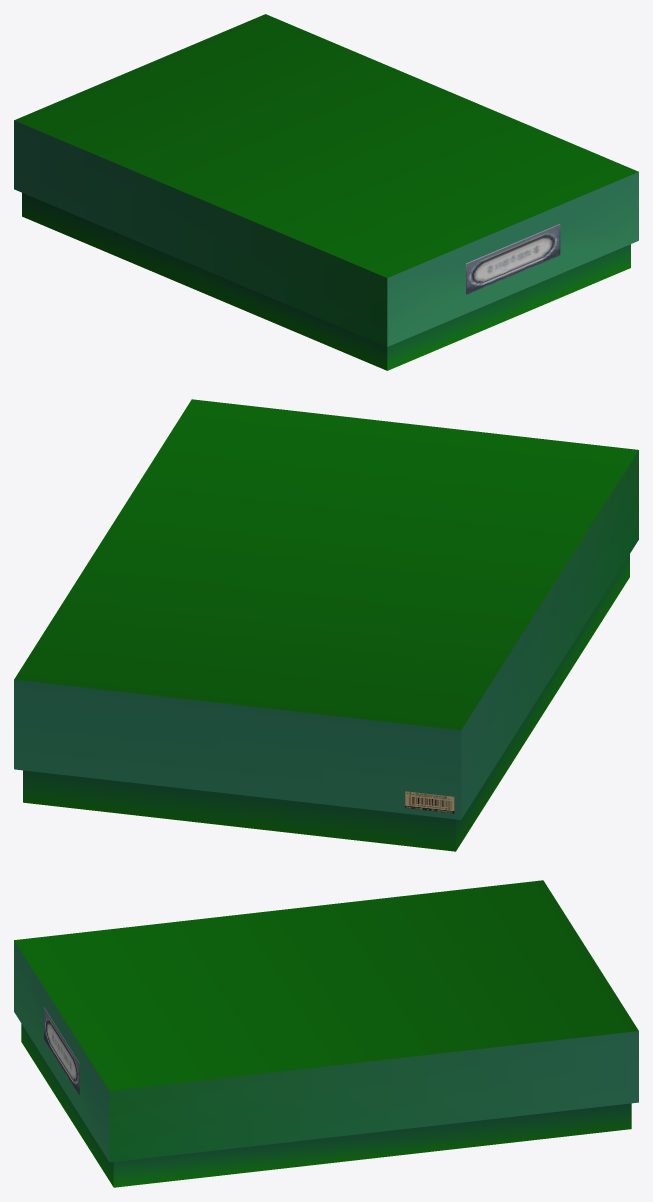
The picture shows the model from 3 angles, top to bottom: view 1: azimuth 30°, elevation 25°; view 2: azimuth 150°, elevation 25°; view 3: azimuth 270°, elevation 25°; orthographic projection. The views are drawn at different scales.
Visible parts, largest first — view 1: Joint_0_Object_0, Joint_0_Object_1; view 2: Joint_0_Object_0, Joint_0_Object_1; view 3: Joint_0_Object_0, Joint_0_Object_1.
Part boxes in pixels (<box>): Joint_0_Object_0: <box>14,14,638,370</box>; Joint_0_Object_1: <box>466,224,560,294</box>; Joint_0_Object_0: <box>14,399,638,851</box>; Joint_0_Object_1: <box>405,791,454,813</box>; Joint_0_Object_0: <box>14,880,638,1187</box>; Joint_0_Object_1: <box>44,1007,79,1095</box>.
Bounding box in the file's own units: 837 × 185 × 1049.
2 materials, 1 textured.
